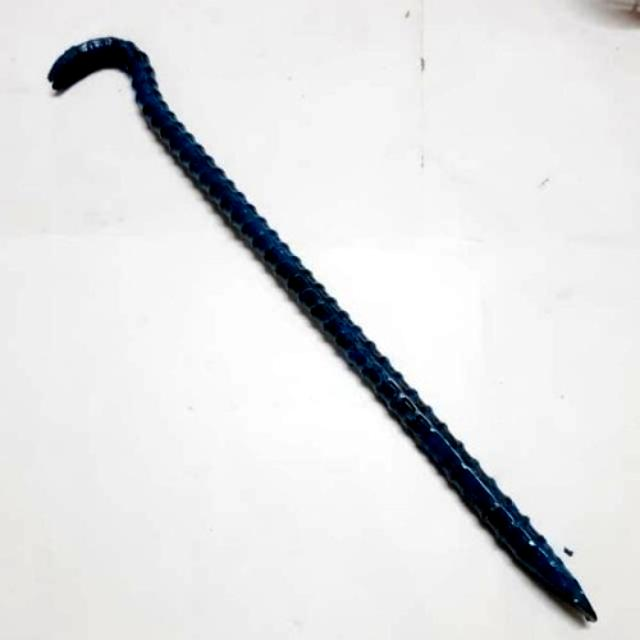crow bar: (33, 20, 603, 630)
